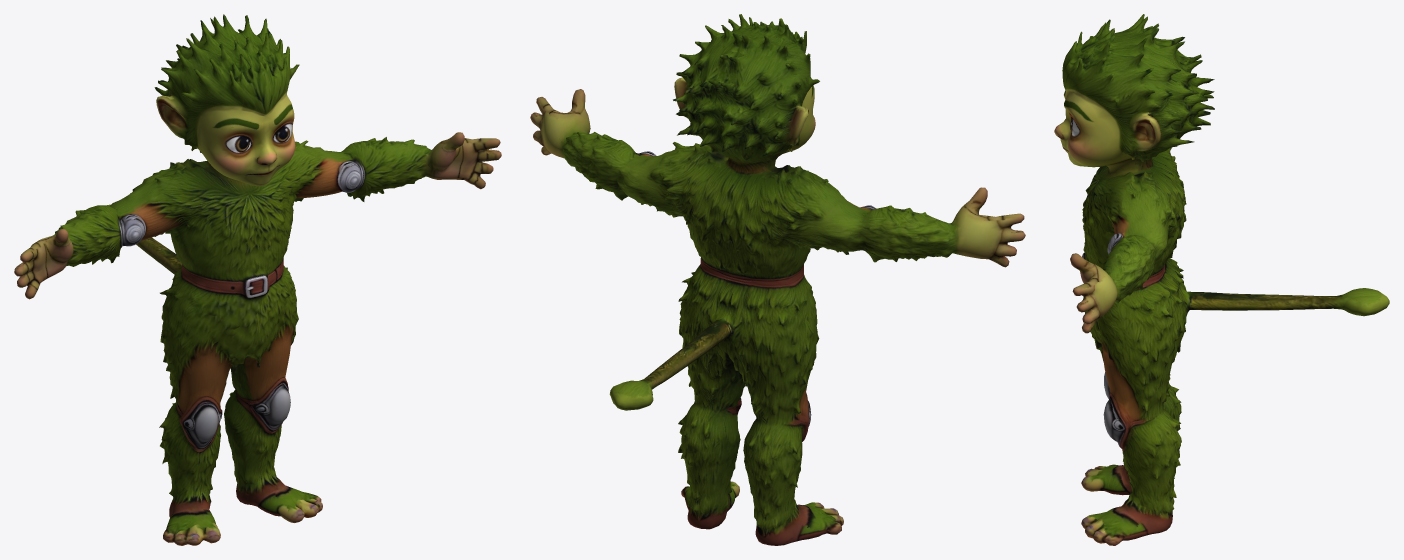
Rendered from moss_covered_dryad_android_orig.glb.
The picture shows the model from 3 angles, left to right: view 1: azimuth 30°, elevation 25°; view 2: azimuth 150°, elevation 25°; view 3: azimuth 270°, elevation 25°; orthographic projection. The views are drawn at different scales.
Parts seen in each view (by area): view 1: world; view 2: world; view 3: world.
Boxes of the visible parts, box(x1,y1,x2,y2) form: world: box(14, 14, 501, 545); world: box(530, 14, 1025, 545); world: box(1054, 14, 1389, 545).
Bounding box in the file's own units: 2 × 1.94 × 1.21.
1 material, 1 textured.
